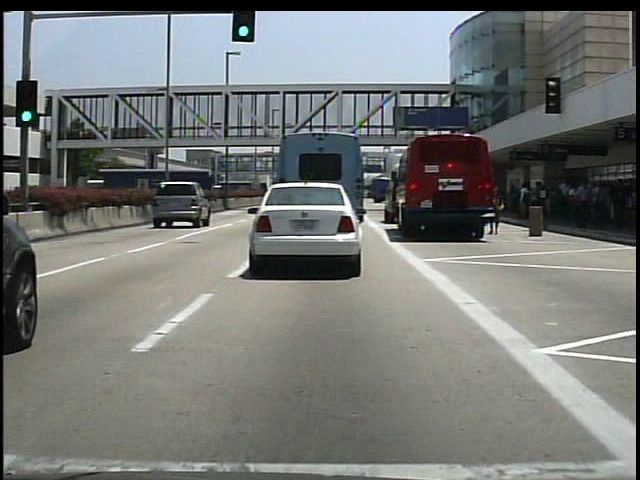person: (490, 187, 503, 237)
